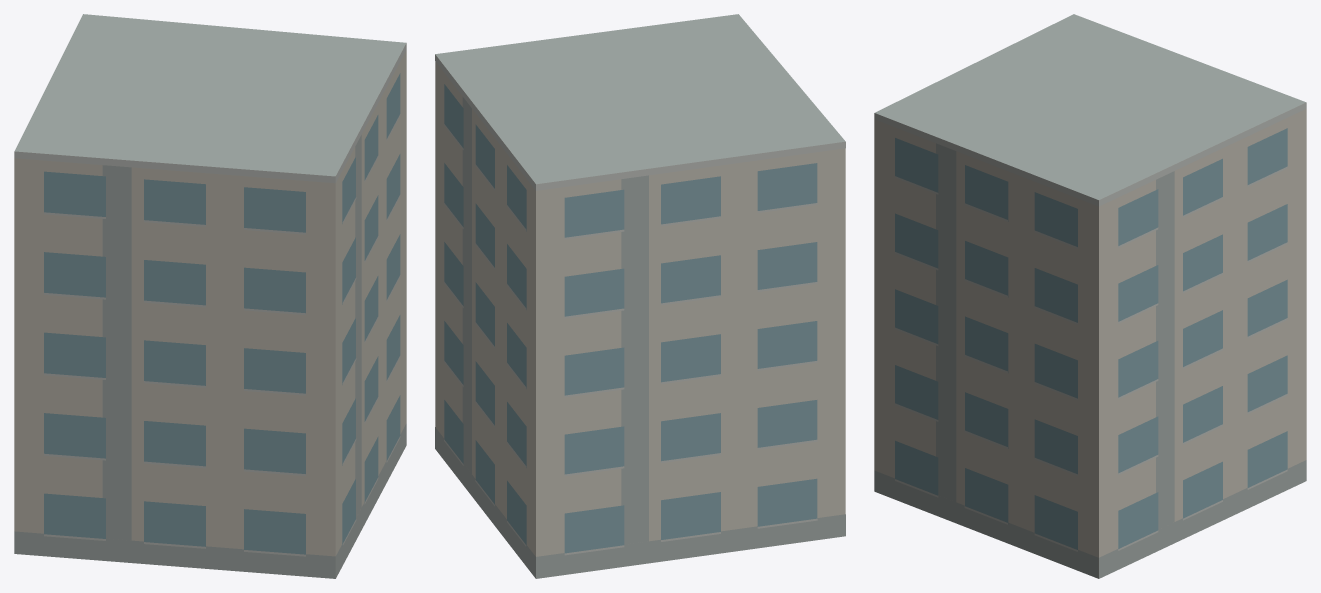
Rendered from survey-upis-32534462.glb.
The picture shows the model from 3 angles, left to right: view 1: azimuth 30°, elevation 25°; view 2: azimuth 150°, elevation 25°; view 3: azimuth 270°, elevation 25°; orthographic projection. The views are drawn at different scales.
Parts seen in each view (by area): view 1: survey-upis-32534462.tmp; view 2: survey-upis-32534462.tmp; view 3: survey-upis-32534462.tmp.
Boxes of the visible parts, x1,y1,x2,y2 form: survey-upis-32534462.tmp: [14, 14, 406, 578]; survey-upis-32534462.tmp: [435, 14, 845, 578]; survey-upis-32534462.tmp: [874, 14, 1306, 578].
Bounding box in the file's own units: 15.19 × 14.4 × 14.9.
